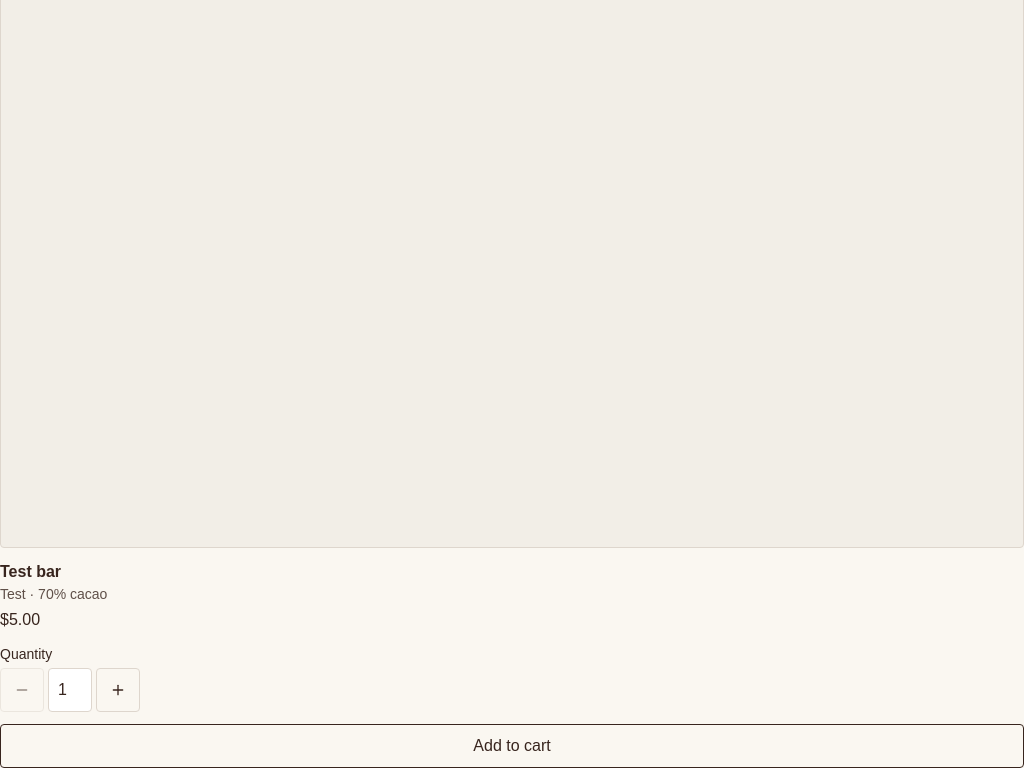
retail catalog quantity selection › chooses a typed amount and resets after adding in en
(page scrolled)
Replace the text in the number field named "Quantity of Test bar" with "4" at (70, 690), box [48,668,92,712]
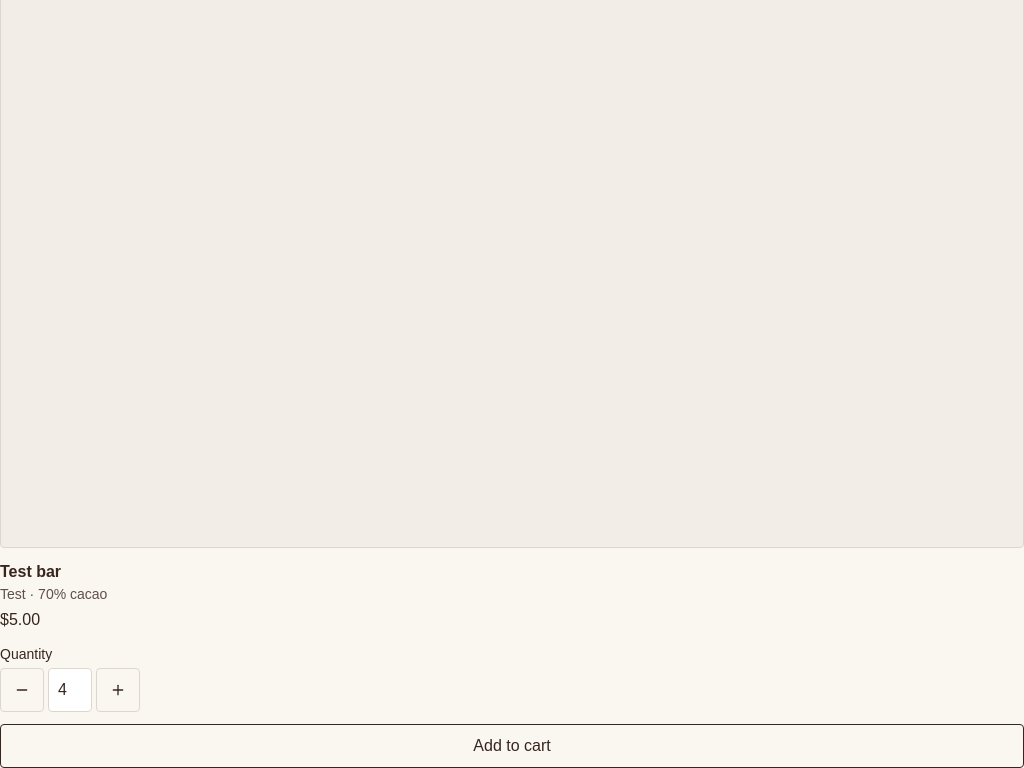
Click the button with aria-label "Add to cart: Test bar" at (512, 746), box [0,724,1023,767]
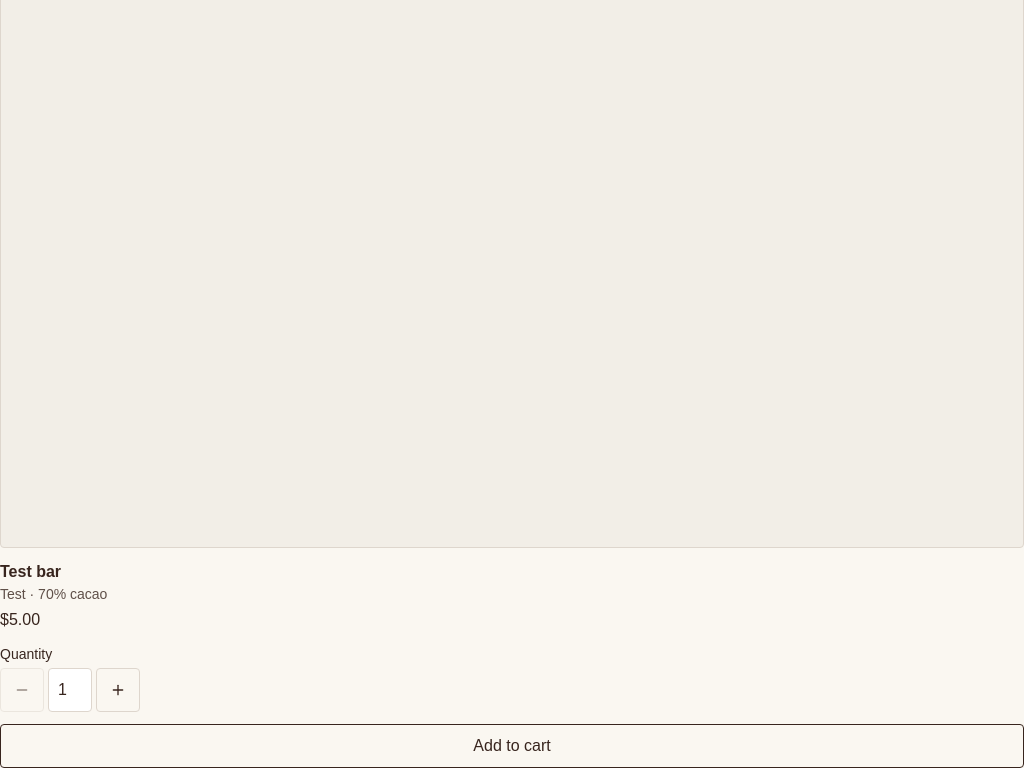
Expected: the number field named "Quantity of Test bar" holds "1", [48,668,92,712]
